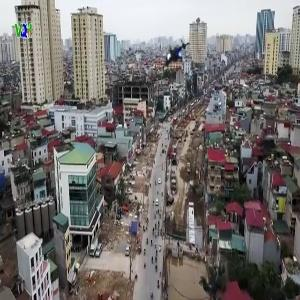drone: (156, 39, 198, 81)
